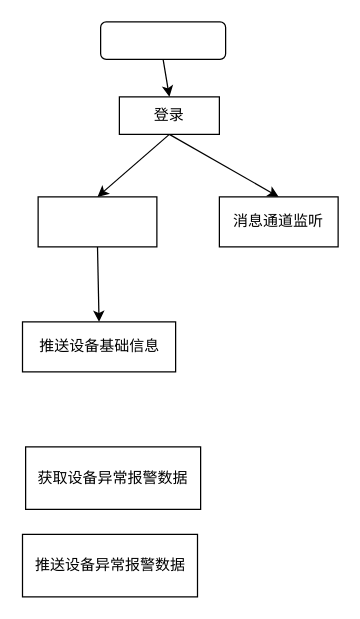
Image size: 360x619. Some labels were removed from this diagram. Each missing label, with the centre of its shape:
"开始" goes at point 162,40.
"获取设备列表" goes at point 97,221.
